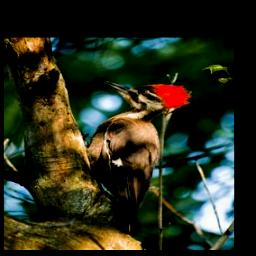Woodpecker: (75, 79, 191, 235)
